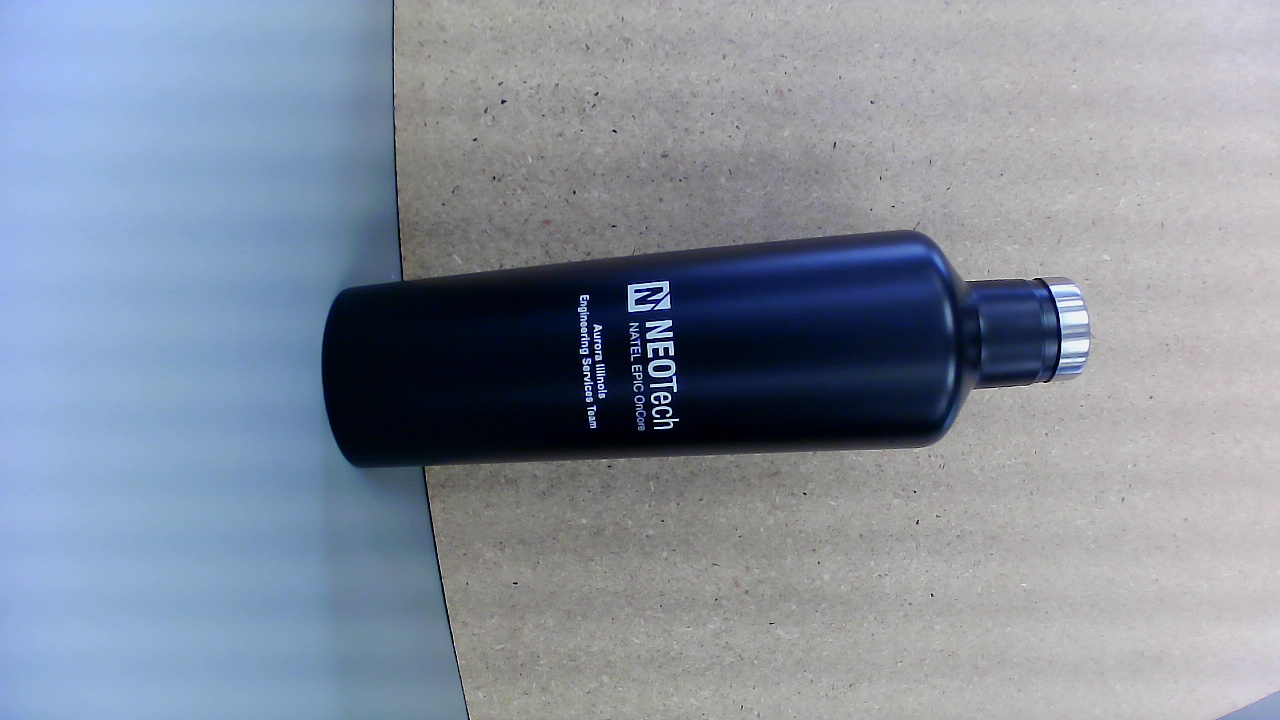neobottle: (314, 224, 1094, 472)
